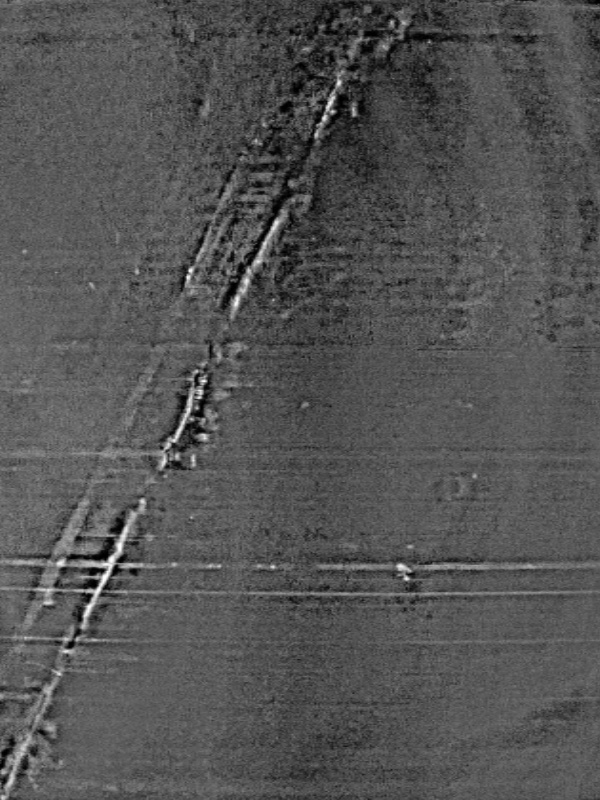splice_vulcanized: (1, 2, 413, 800)
